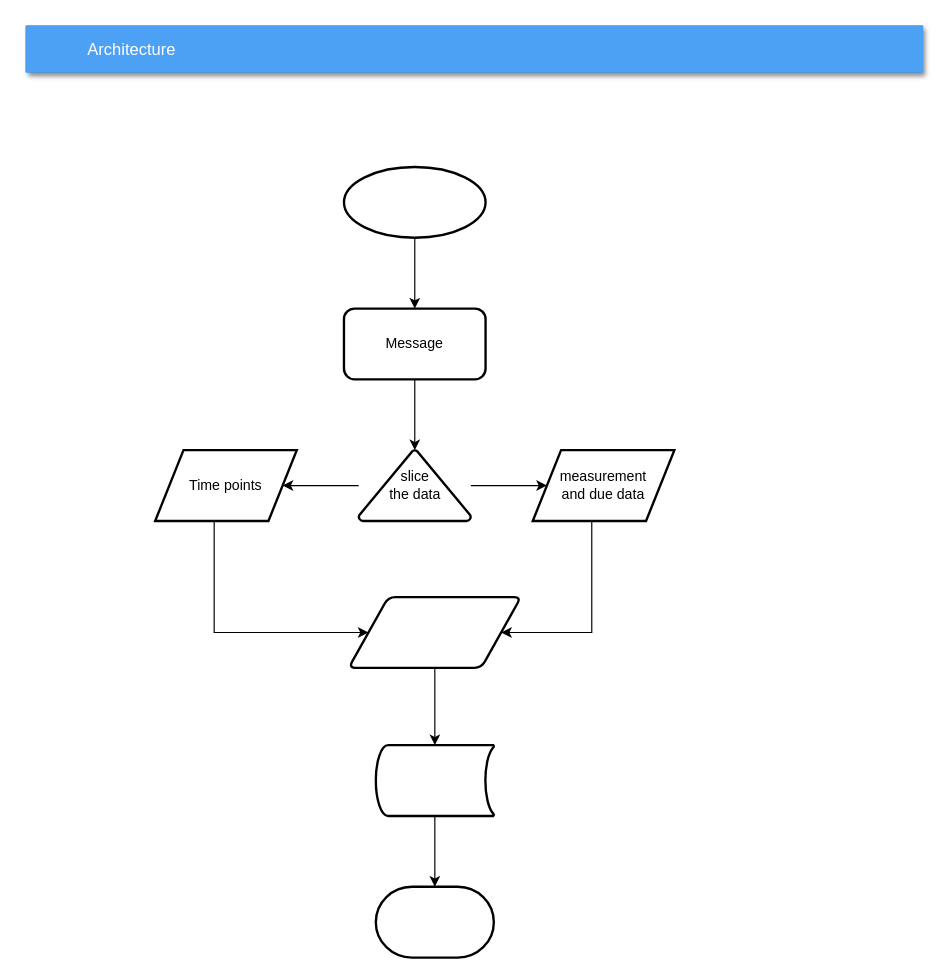
The diagram is 950 pixels wide and 978 high, and some of its shapes have lost their labels. The centre of each missing label's shape, as x and y in pixels:
"merge time into measurement and due data" belongs at point (434, 631).
"start" belongs at point (414, 201).
"Stop" belongs at point (434, 921).
